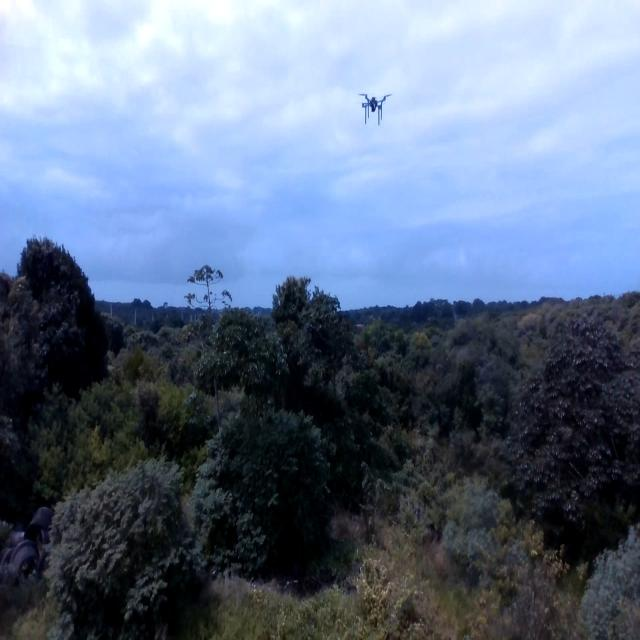-uav-: (354, 87, 394, 126)
